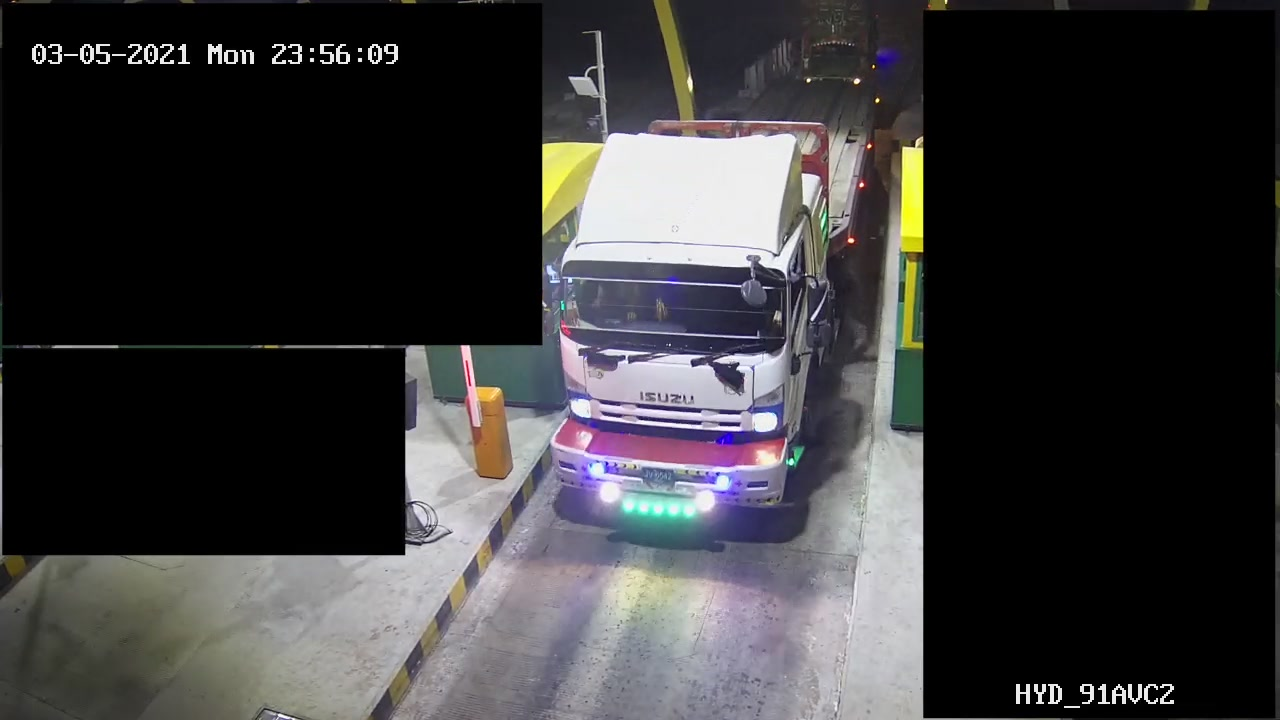F6: (539, 79, 886, 542)
